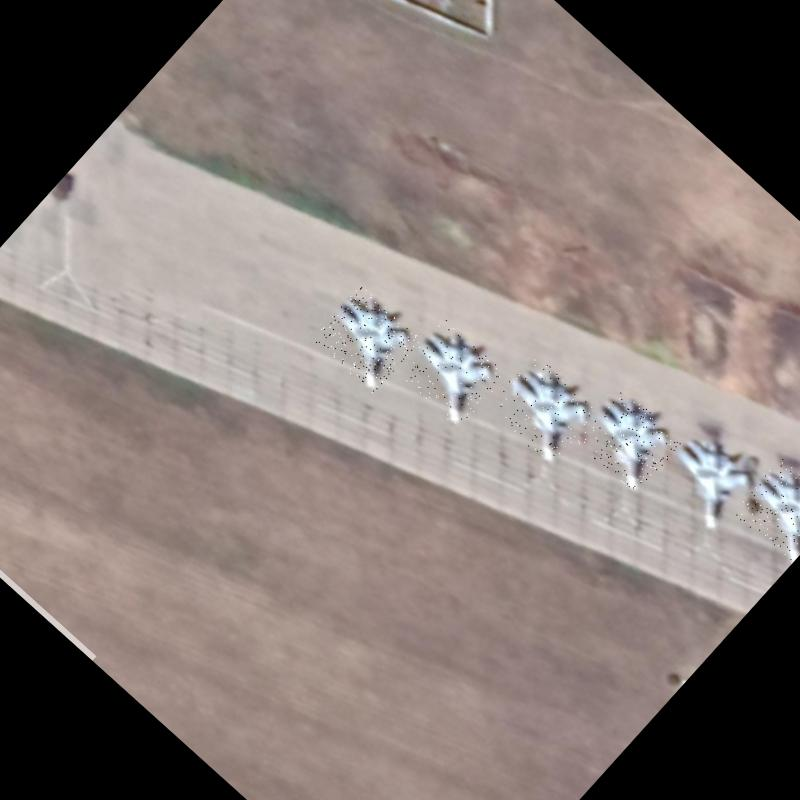A19: (484, 352, 601, 468), (395, 318, 506, 428), (652, 424, 763, 534), (311, 284, 421, 394), (575, 388, 683, 496), (731, 457, 800, 565)
